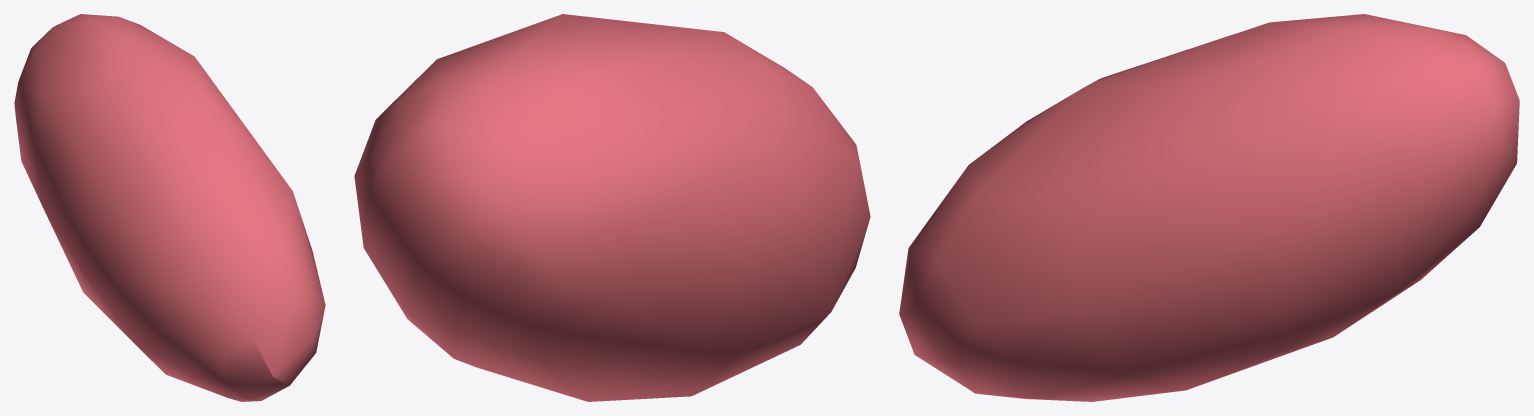
Rendered from fma50816_fj5008.glb.
3 renders of one model, left to right at view 1: azimuth 30°, elevation 25°; view 2: azimuth 150°, elevation 25°; view 3: azimuth 270°, elevation 25°, orthographic. The views are drawn at different scales.
Visible parts, largest first — view 1: FMA50816_FJ5008; view 2: FMA50816_FJ5008; view 3: FMA50816_FJ5008.
Part boxes in pixels (x1,y1,x2,y2): FMA50816_FJ5008: (14, 14, 325, 401); FMA50816_FJ5008: (354, 14, 870, 401); FMA50816_FJ5008: (899, 14, 1519, 401).
Bounding box in the file's own units: 0.00479 × 0.00606 × 0.00929.
